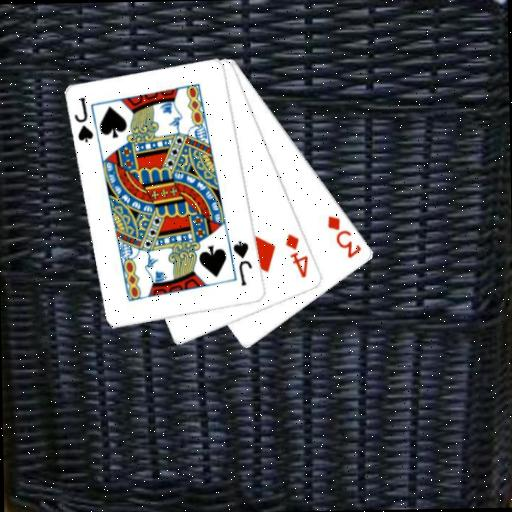3D: (324, 212, 364, 261)
4D: (283, 231, 311, 280)
JS: (230, 238, 254, 288), (71, 94, 95, 144)
